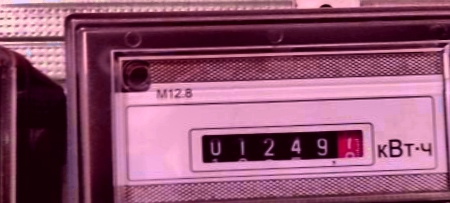0: (207, 133, 222, 154)
1: (234, 132, 247, 154)
2: (259, 132, 276, 155)
4: (288, 132, 302, 152)
7: (342, 127, 356, 147)
9: (314, 133, 328, 154)
screen: (185, 115, 377, 171)
